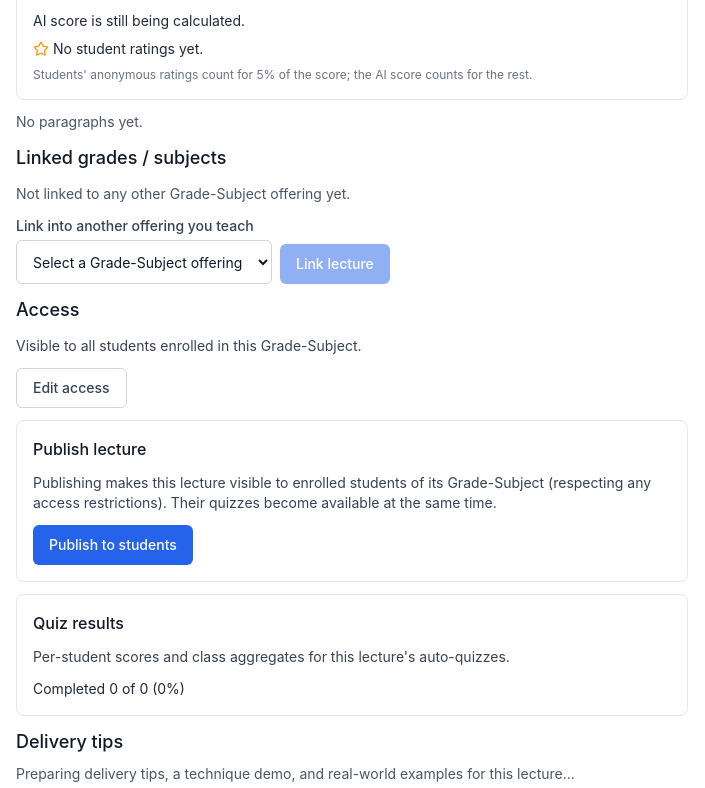
Test: LectureAccessPanel (T-123) › lets the teacher cancel editing without saving
This screenshot has width=705, height=788.
(page scrolled)
Step 1. Click the button "Edit access" → (71, 388), box [16,368,126,408]
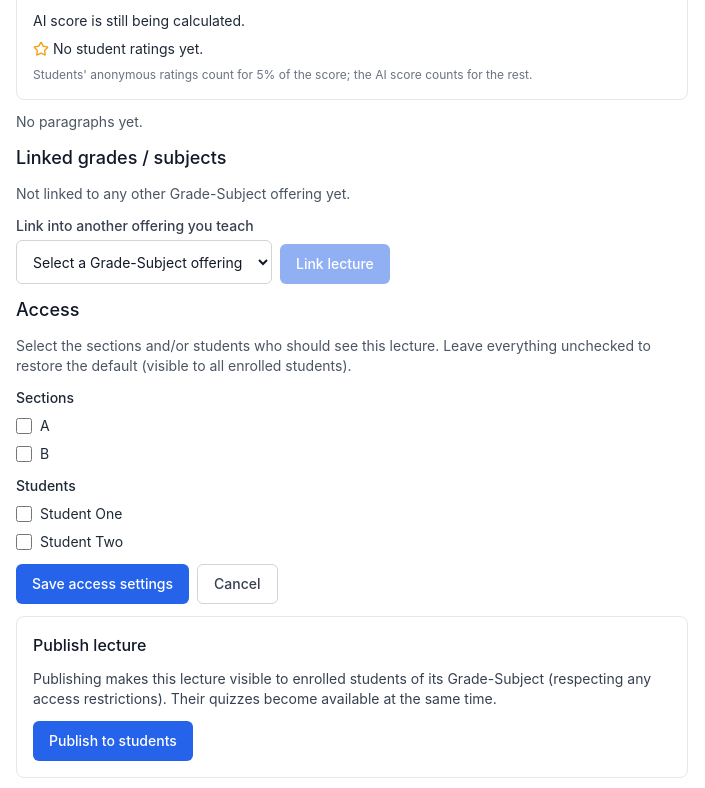
Now the checkbox labelled "A" is shown, box [16,418,32,434]
Step 2. Click the button "Cancel" → (237, 584), box [197,564,278,604]
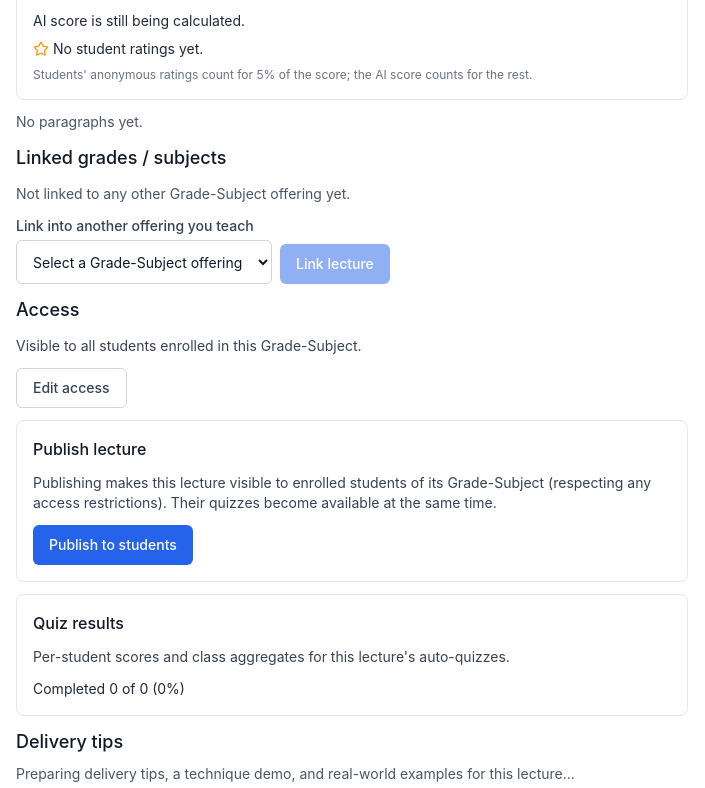
Now the text "Visible to all students enrolled in this Grade-Subject." is shown, box [16,337,362,354]
